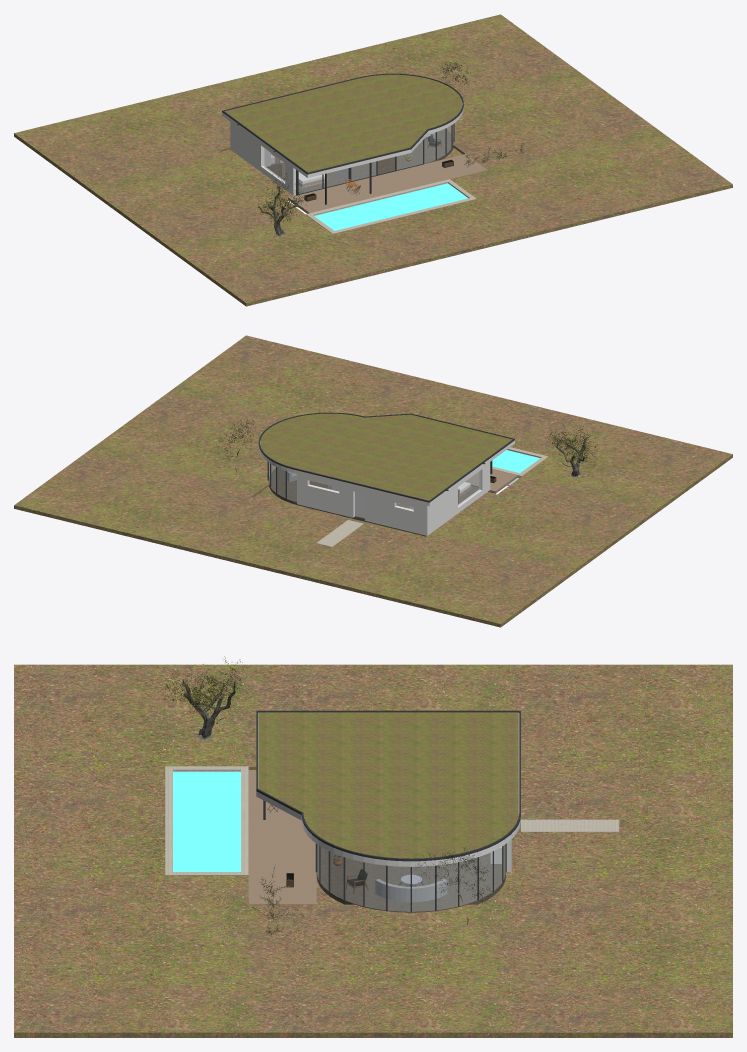
The model's file is futur2.glb.
3 views of the same model, one above another, from view 1: azimuth 30°, elevation 25°; view 2: azimuth 150°, elevation 25°; view 3: azimuth 270°, elevation 25° (orthographic). The views are drawn at different scales.
Parts seen in each view (by area): view 1: Ext, Shell, Water, Glass, Furn; view 2: Ext, Shell, Glass, Water, Furn; view 3: Ext, Shell, Glass, Water, Furn.
Part boxes in pixels (x1,y1,x2,y2): Ext: [14, 14, 732, 306]; Shell: [222, 73, 463, 204]; Water: [314, 183, 467, 230]; Glass: [264, 124, 453, 193]; Furn: [271, 132, 441, 187]; Ext: [14, 335, 732, 627]; Shell: [258, 412, 514, 536]; Glass: [268, 463, 480, 509]; Water: [492, 450, 540, 473]; Furn: [287, 471, 471, 517]; Ext: [14, 656, 732, 1037]; Shell: [256, 710, 520, 912]; Glass: [317, 844, 505, 911]; Water: [173, 771, 240, 871]; Furn: [333, 847, 501, 902].
Size of the model in its own units: 46 by 6.38 by 38.
Materials: 42 (27 with a texture image).
